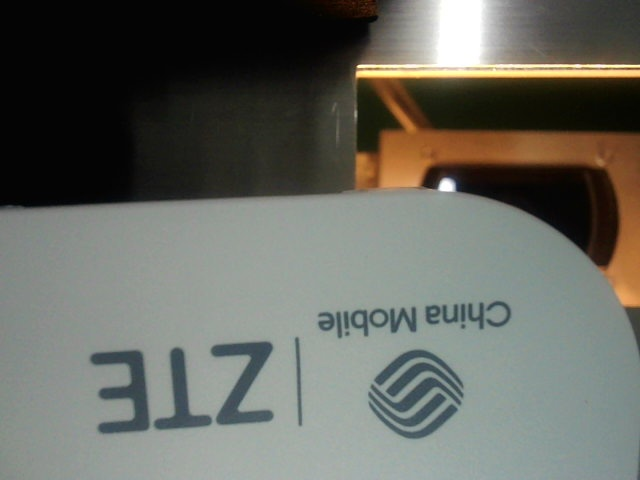AL_ZTEChinaMobile: (82, 296, 517, 447)
